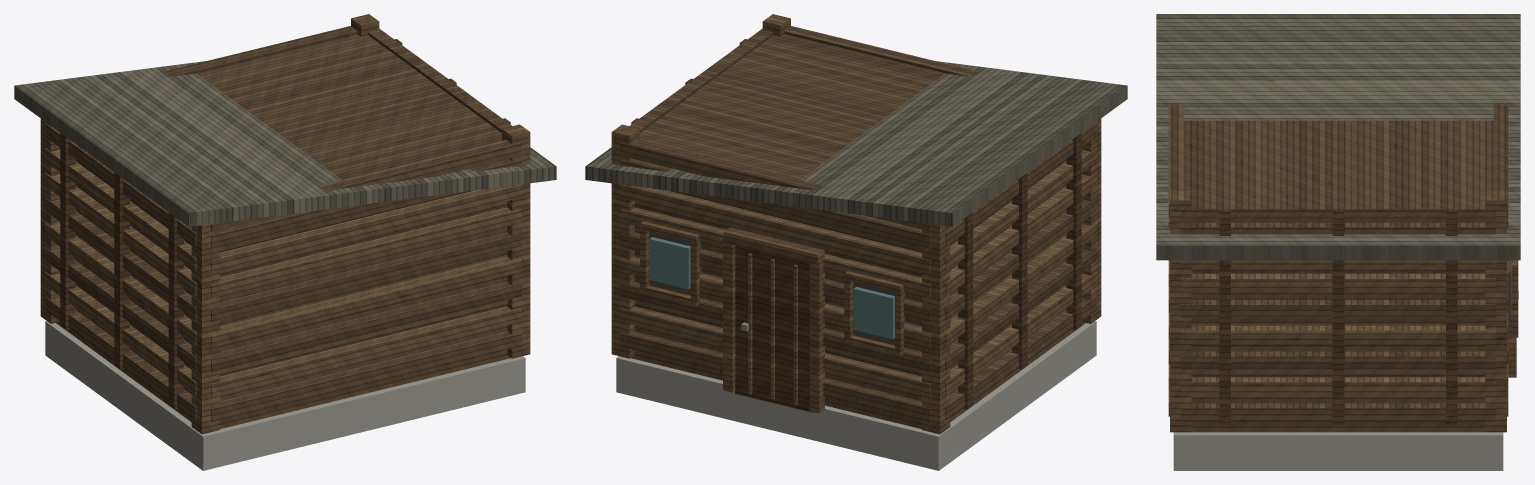
File: wooden_forest_lean_to_house.glb
3 renders of one model, left to right at view 1: azimuth 30°, elevation 25°; view 2: azimuth 150°, elevation 25°; view 3: azimuth 270°, elevation 25°, orthographic. The views are drawn at different scales.
Visible parts, largest first — view 1: Wooden_Forest_Lean_To_House; view 2: Wooden_Forest_Lean_To_House; view 3: Wooden_Forest_Lean_To_House.
Boxes of the visible parts, bbox=[...] form: Wooden_Forest_Lean_To_House: bbox=[14, 14, 556, 470]; Wooden_Forest_Lean_To_House: bbox=[585, 14, 1127, 470]; Wooden_Forest_Lean_To_House: bbox=[1156, 14, 1520, 470].
Size of the model in its own units: 4.5 by 3.15 by 3.7.
11 materials, 7 textured.
